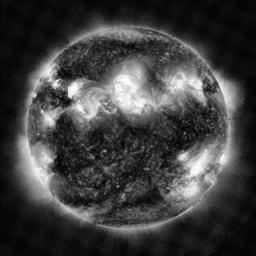solar flares: (109, 73, 149, 117), (173, 72, 205, 97), (76, 98, 102, 119), (177, 176, 201, 198), (188, 145, 206, 174), (36, 110, 61, 129), (34, 145, 55, 162), (66, 82, 80, 100), (177, 148, 191, 162), (50, 78, 62, 90), (38, 168, 52, 178)
sunspots: (166, 111, 195, 147), (100, 38, 142, 59), (58, 118, 73, 171), (128, 190, 162, 205), (87, 129, 107, 152), (122, 127, 148, 143), (124, 157, 143, 178), (59, 65, 87, 79), (47, 92, 73, 106), (204, 83, 221, 96), (160, 152, 173, 169), (196, 122, 208, 138), (200, 104, 212, 119), (94, 178, 109, 190)
